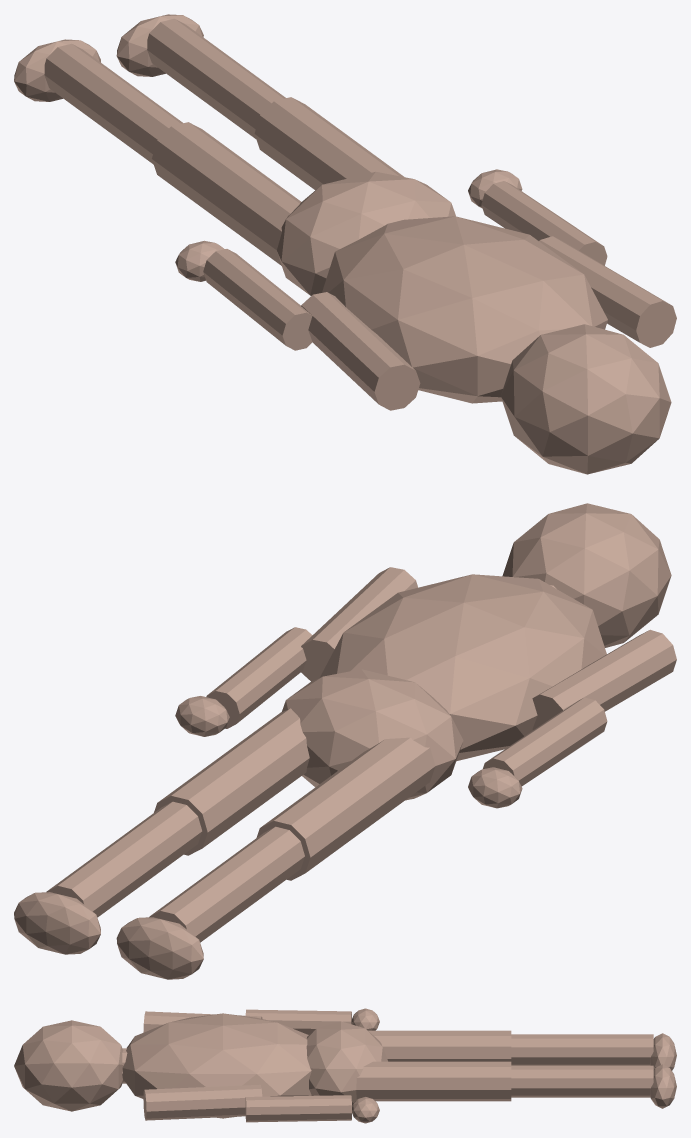
The model's file is body-g3-low.glb.
The picture shows the model from 3 angles, top to bottom: view 1: azimuth 30°, elevation 25°; view 2: azimuth 150°, elevation 25°; view 3: azimuth 270°, elevation 25°; orthographic projection. The views are drawn at different scales.
Parts seen in each view (by area): view 1: torso, head, pelvis, left_thigh, left_lower_leg, right_lower_leg, right_thigh, left_upper_arm, left_forearm, right_upper_arm, right_forearm, left_foot (+3 smaller); view 2: torso, head, pelvis, left_thigh, right_thigh, right_lower_leg, left_lower_leg, left_upper_arm, left_forearm, right_forearm, left_foot, right_foot (+3 smaller); view 3: torso, head, right_thigh, right_lower_leg, left_lower_leg, pelvis, left_thigh, right_upper_arm, right_forearm, left_forearm, right_foot, left_foot (+3 smaller).
Boxes of the visible parts, x1,y1,x2,y2 form: torso: (322,216,607,403); head: (500,324,671,474); pelvis: (277,171,455,295); left_thigh: (152,122,301,265); left_lower_leg: (44,43,183,164); right_lower_leg: (147,18,285,138); right_thigh: (254,97,403,190); left_upper_arm: (301,292,420,410); left_forearm: (203,249,312,350); right_upper_arm: (539,236,676,347); right_forearm: (481,181,607,265); left_foot: (14,39,100,101); torso: (320,574,606,761); head: (502,503,671,647); pelvis: (282,669,463,800); left_thigh: (256,737,435,880); right_thigh: (154,708,309,855); right_lower_leg: (46,801,202,917); left_lower_leg: (149,826,304,942); left_upper_arm: (532,629,676,730); left_forearm: (483,697,607,786); right_forearm: (206,627,312,728); left_foot: (116,917,203,979); right_foot: (14,892,100,954); torso: (122,1013,311,1118); head: (14,1020,123,1111); right_thigh: (356,1061,511,1101); right_lower_leg: (511,1065,653,1097); left_lower_leg: (511,1034,653,1065); pelvis: (306,1021,387,1106); left_thigh: (368,1030,511,1061); right_upper_arm: (143,1084,262,1120); right_forearm: (245,1095,351,1122); left_forearm: (245,1009,351,1034); right_foot: (650,1064,676,1108); left_foot: (650,1033,676,1070).
Bounding box in the file's own units: 2.2 × 0.8 × 5.96.
